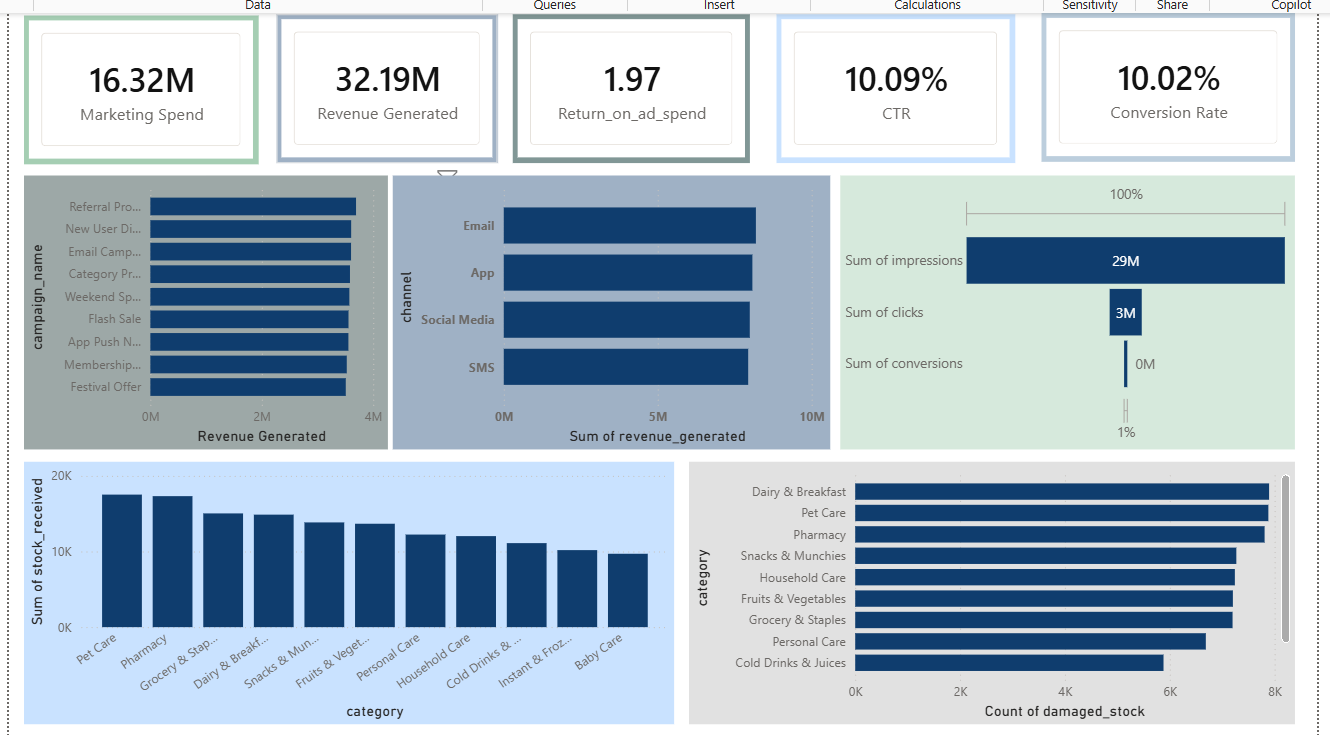

What the dashboard file says about the page in this screenshot:
{"tool":"powerbi","page":{"name":"MARKETING AND INVENTORY DASHBAORD","canvas":[1280,720],"ordinal":2},"visuals":[{"type":"cardVisual","fields":{"Data":["public marketing_performance.Marketing Spend"]},"box":[14.7,2.4,229.9,145.5],"z":0},{"type":"cardVisual","fields":{"Data":["public marketing_performance.Revenue Generated"]},"box":[261.7,1.2,216.4,145.5],"z":1000},{"type":"cardVisual","fields":{"Data":["public marketing_performance.Return_on_ad_spend"]},"box":[492.8,1.2,232.3,145.5],"z":2000},{"type":"cardVisual","fields":{"Data":["public marketing_performance.CTR"]},"box":[750.8,1.2,233.6,145.5],"z":3000},{"type":"cardVisual","fields":{"Data":["public marketing_performance.Conversion Rate"]},"box":[1010.1,0,248.2,145.5],"z":4000},{"type":"clusteredBarChart","fields":{"Category":["public marketing_performance.campaign_name"],"Y":["public marketing_performance.Revenue Generated"]},"box":[14.7,159,355.8,267.8],"z":5000},{"type":"clusteredBarChart","fields":{"Category":["public marketing_performance.channel"],"Y":["Sum(public marketing_performance.revenue_generated)"]},"box":[375.4,159,428,267.8],"z":6000},{"type":"funnel","fields":{"Y":["Sum(public marketing_performance.impressions)","Sum(public marketing_performance.clicks)","Sum(public marketing_performance.conversions)"]},"box":[813.2,159,445.1,267.8],"z":7000},{"type":"clusteredColumnChart","fields":{"Category":["public products.category"],"Y":["Sum(public inventory.stock_received)"]},"box":[14.7,439,635.9,256.8],"z":8000},{"type":"barChart","fields":{"Y":["CountNonNull(public inventory.damaged_stock)"],"Category":["public products.category"]},"box":[665.2,439,593.1,256.8],"z":9000}]}

Visuals, with their boxes on the page's 1280x720 design canvas (x1, y1, x2, y2). These are canvas units, not pixel positions in the 1330x737 screenshot, which may show the page scaled, cropped or inside an application window:
cardVisual - public marketing_performance.Marketing Spend: 15 2 245 148
cardVisual - public marketing_performance.Revenue Generated: 262 1 478 147
cardVisual - public marketing_performance.Return_on_ad_spend: 493 1 725 147
cardVisual - public marketing_performance.CTR: 751 1 984 147
cardVisual - public marketing_performance.Conversion Rate: 1010 0 1258 146
clusteredBarChart - public marketing_performance.campaign_name x public marketing_performance.Revenue Generated: 15 159 370 427
clusteredBarChart - public marketing_performance.channel x Sum(public marketing_performance.revenue_generated): 375 159 803 427
funnel - Sum(public marketing_performance.impressions) x Sum(public marketing_performance.clicks): 813 159 1258 427
clusteredColumnChart - public products.category x Sum(public inventory.stock_received): 15 439 651 696
barChart - CountNonNull(public inventory.damaged_stock) x public products.category: 665 439 1258 696
